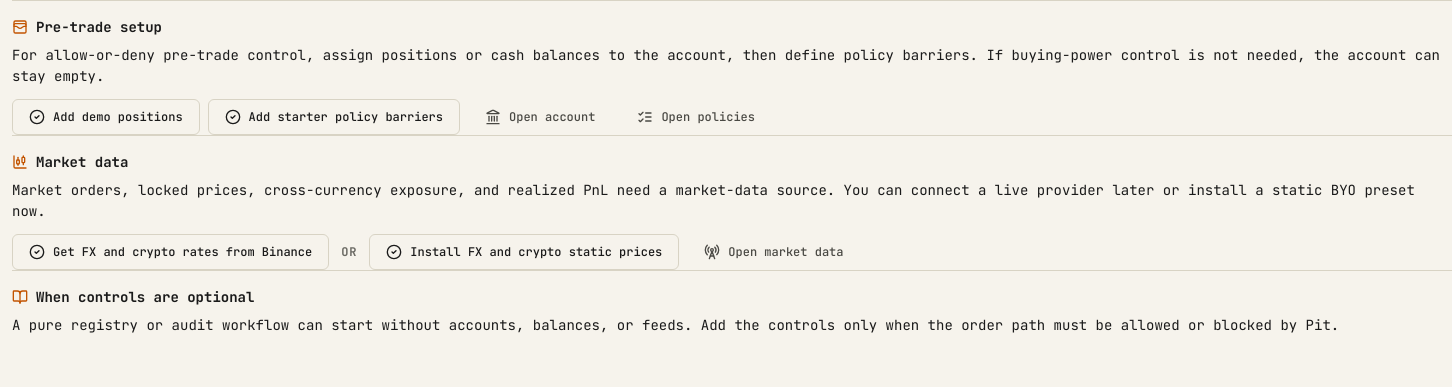
Test case: WelcomeQuickStart while accounts are hidden › refuses the starter barriers when the account has one of them
The width and height of the screenshot is (1452, 387).
What coordinates should you click on to do the following:
click the button "Add starter policy barriers"
I would click on:
 (334, 117)
Its box is [208,99,460,135].
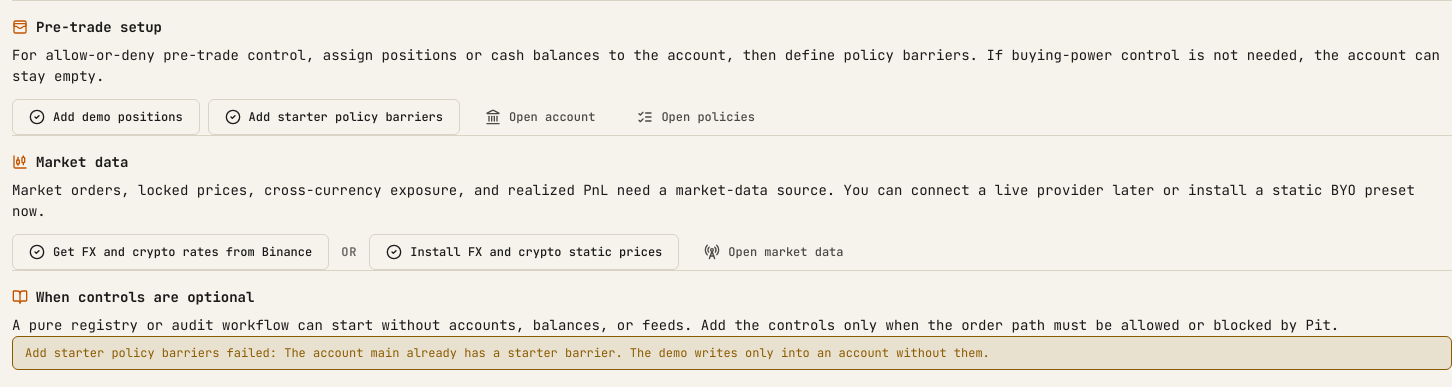
Now the text "Add starter policy barriers failed: The account main already has a starter barrier. The demo writes only into an account" is shown, box [25,345,990,361]
